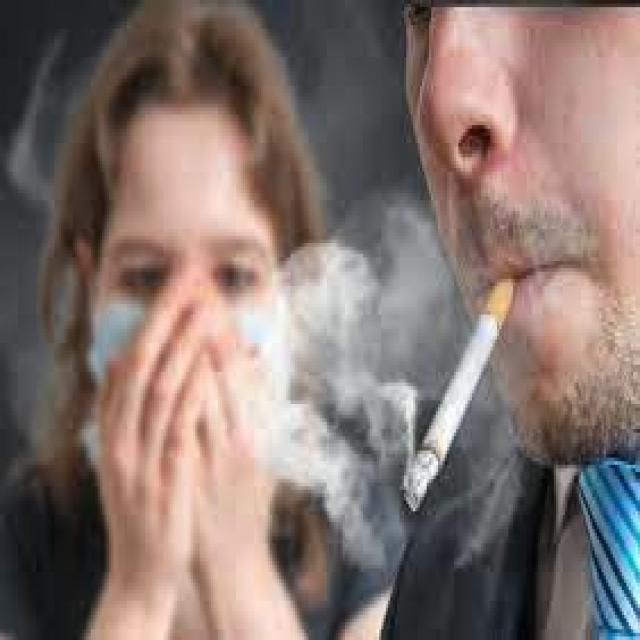smoke: (397, 254, 520, 518)
